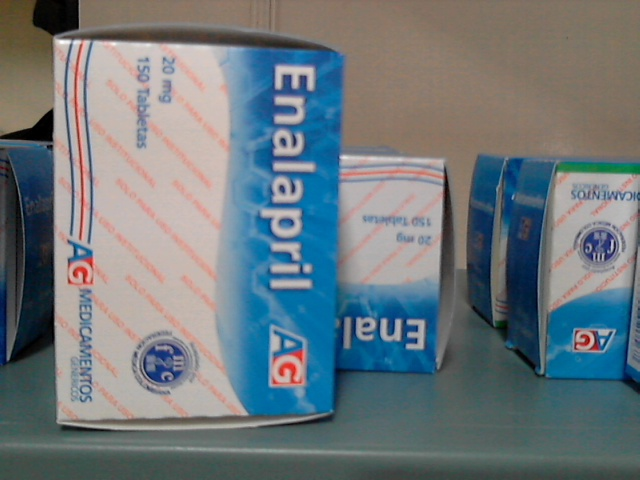AG: (53, 39, 338, 412)
